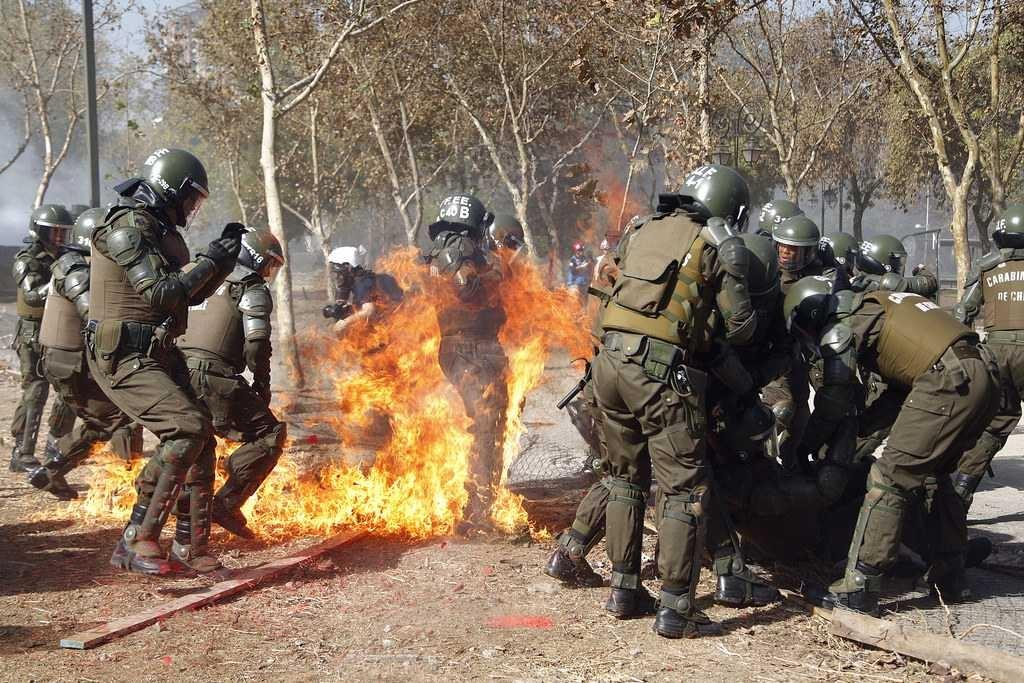fire: (278, 467, 472, 535), (362, 298, 453, 413), (505, 287, 558, 375)
